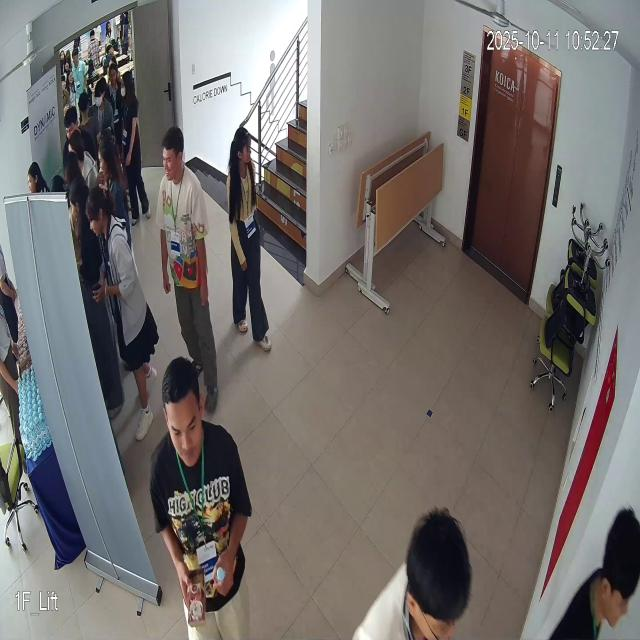face: (161, 358, 208, 471), (154, 125, 190, 181)
